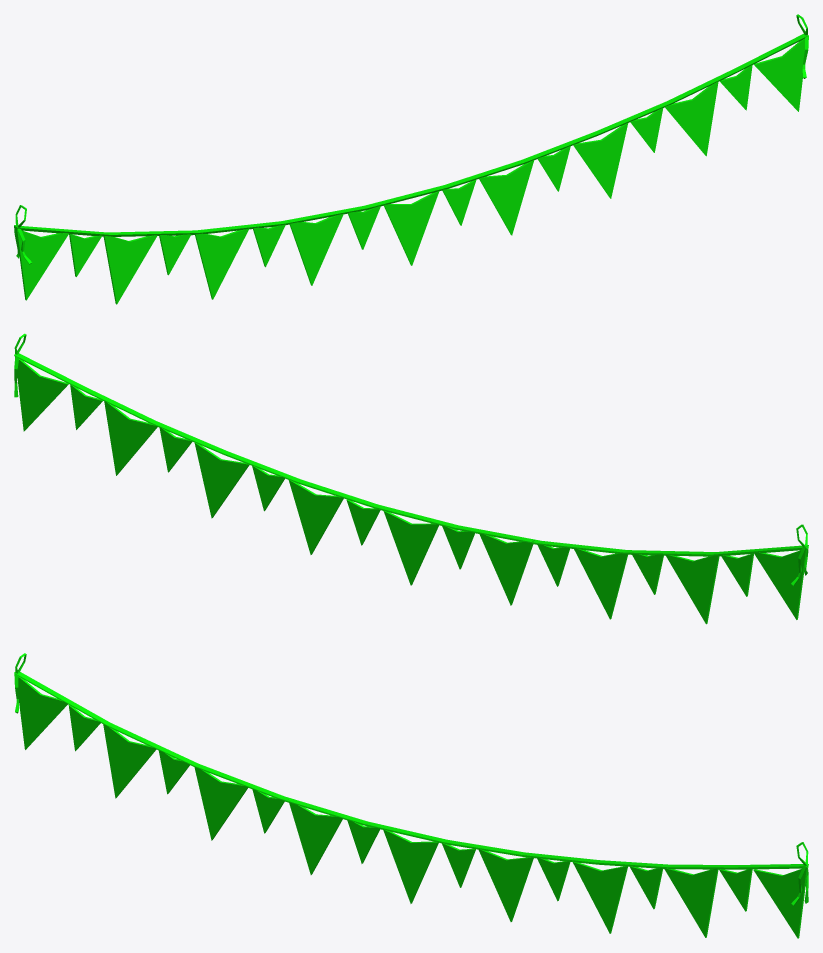
File: SM_Garland_Triangles_3m_Fantasy.fbx
3 renders of one model, top to bottom at view 1: azimuth 30°, elevation 25°; view 2: azimuth 150°, elevation 25°; view 3: azimuth 330°, elevation 25°, orthographic.
Visible parts, largest first — view 1: garland-triangles-3m-fantasy; view 2: garland-triangles-3m-fantasy; view 3: garland-triangles-3m-fantasy.
Boxes of the visible parts, bbox=[...] form: garland-triangles-3m-fantasy: bbox=[14, 14, 808, 304]; garland-triangles-3m-fantasy: bbox=[14, 333, 808, 624]; garland-triangles-3m-fantasy: bbox=[14, 653, 808, 938].
Size of the model in its own units: 3 by 0.5607 by 0.092.
